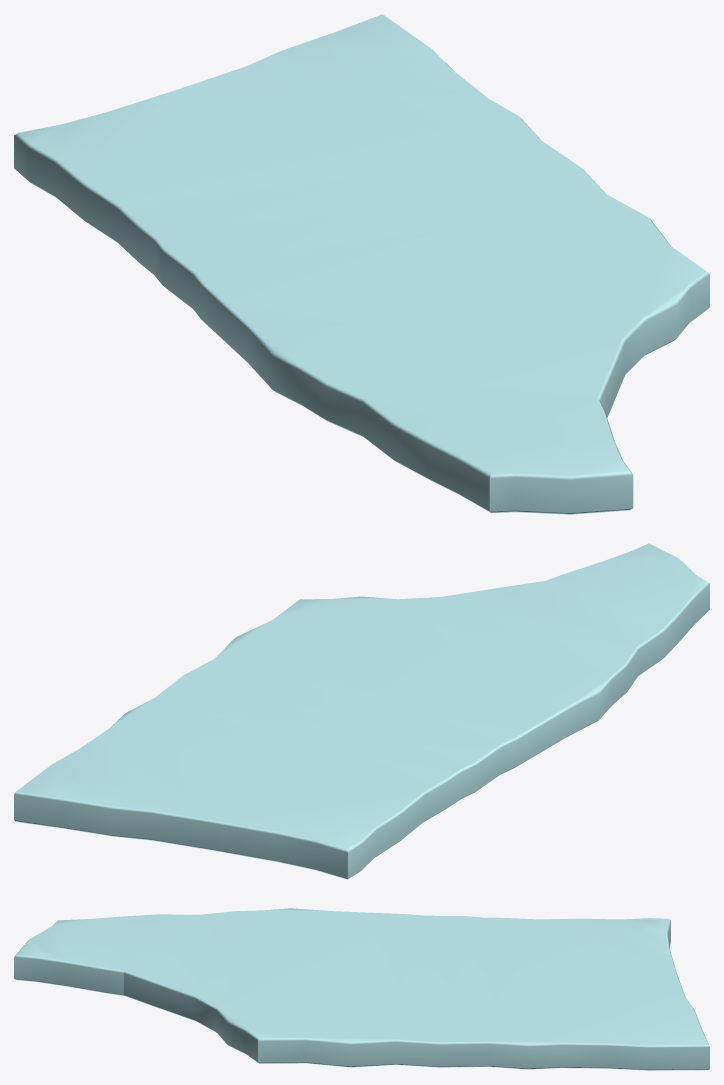
Rendered from ice_floe_large_004.fbx.
3 renders of one model, top to bottom at view 1: azimuth 30°, elevation 25°; view 2: azimuth 150°, elevation 25°; view 3: azimuth 270°, elevation 25°, orthographic. The views are drawn at different scales.
Parts seen in each view (by area): view 1: ice_floe_large_004; view 2: ice_floe_large_004; view 3: ice_floe_large_004.
Part boxes in pixels (x1,y1,x2,y2): ice_floe_large_004: (14,14,709,514); ice_floe_large_004: (14,543,709,879); ice_floe_large_004: (14,908,709,1070).
Size of the model in its own units: 1050 by 2230 by 91.15.
